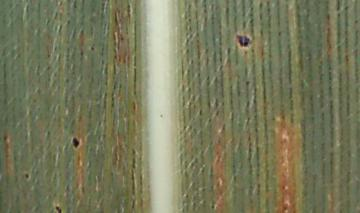tarspot: (235, 32, 252, 49), (71, 137, 81, 148), (55, 206, 62, 213), (24, 172, 30, 179), (2, 135, 8, 142), (245, 80, 251, 87), (90, 45, 95, 52)
